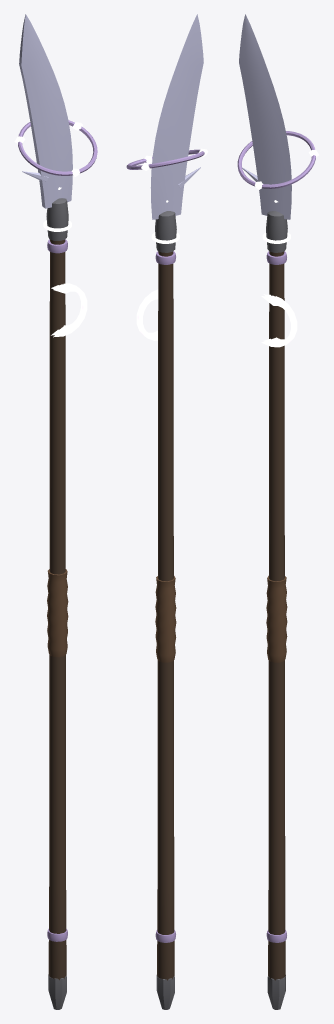
File: fa_evermoon.glb
3 views of the same model, side by side, from view 1: azimuth 30°, elevation 25°; view 2: azimuth 210°, elevation 25°; view 3: azimuth 330°, elevation 25° (orthographic).
Parts seen in each view (by area): view 1: fa_evermoon; view 2: fa_evermoon; view 3: fa_evermoon.
Part boxes in pixels (x1,y1,x2,y2): fa_evermoon: (14, 14, 97, 1009); fa_evermoon: (126, 14, 208, 1009); fa_evermoon: (237, 14, 318, 1009).
Size of the model in its own units: 0.1841 by 2.43 by 0.1759.
